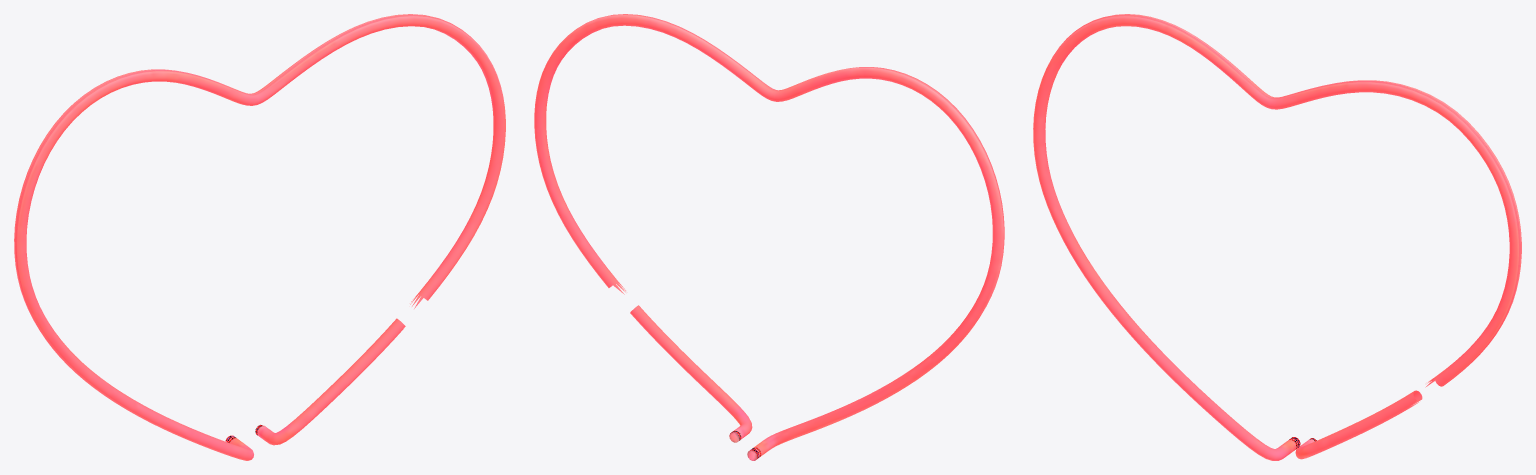
Rendered from neon_heart.glb.
3 renders of one model, left to right at view 1: azimuth 30°, elevation 25°; view 2: azimuth 150°, elevation 25°; view 3: azimuth 330°, elevation 25°, orthographic. The views are drawn at different scales.
Visible parts, largest first — view 1: vegas_heart; view 2: vegas_heart; view 3: vegas_heart.
Part boxes in pixels (x1,y1,x2,y2): vegas_heart: (14, 14, 505, 460); vegas_heart: (534, 14, 1004, 460); vegas_heart: (1033, 14, 1521, 460).
Size of the model in its own units: 2.4 by 1.97 by 0.2267.
1 material, 1 textured.
